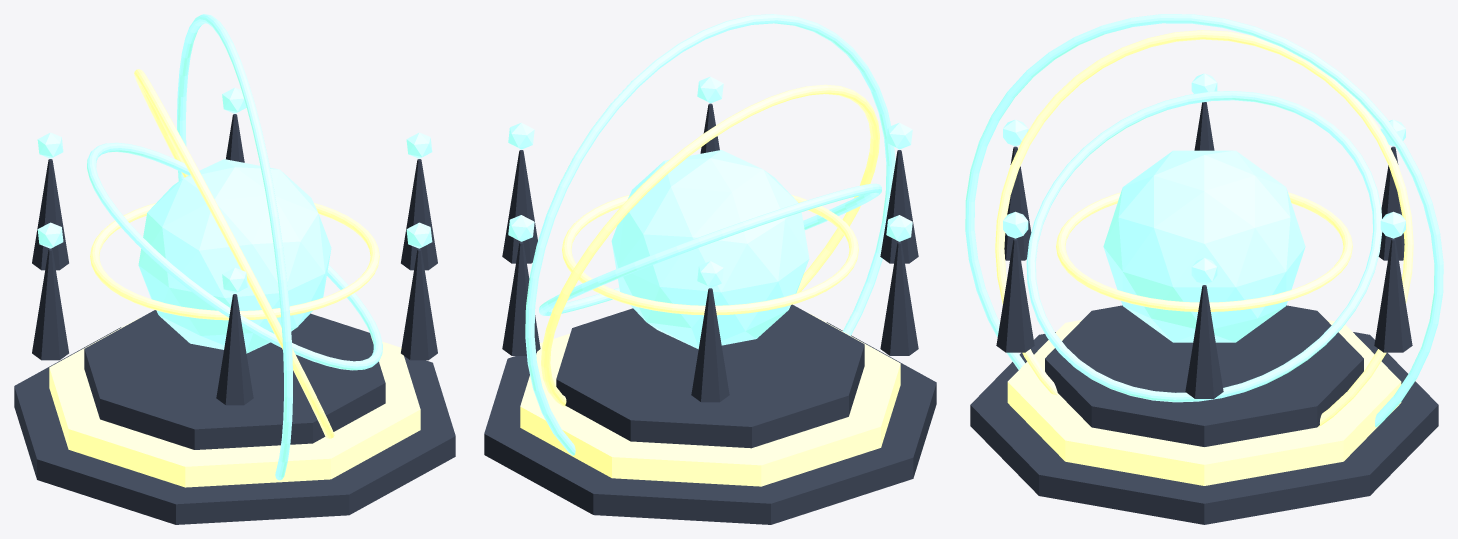
File: gpu-blender-v16.glb
The picture shows the model from 3 angles, left to right: view 1: azimuth 30°, elevation 25°; view 2: azimuth 150°, elevation 25°; view 3: azimuth 270°, elevation 25°; orthographic projection. The views are drawn at different scales.
Visible parts, largest first — view 1: Cylinder.002, Cylinder, SovereignCore_digital-asset-forge, Cylinder.001, Torus.003, Torus.001, Torus.002, Torus, Cone.004, Cone.003, Cone.005, Cone.002 (+7 smaller); view 2: Cylinder.002, SovereignCore_digital-asset-forge, Cylinder, Cylinder.001, Torus.003, Torus.002, Torus.001, Torus, Cone.002, Cone.003, Cone.001, Cone.004 (+7 smaller); view 3: SovereignCore_digital-asset-forge, Cylinder.002, Cylinder, Cylinder.001, Torus.003, Torus.001, Torus.002, Torus, Cone.001, Cone.005, Cone, Cone.004 (+3 smaller).
Boxes of the visible parts, bbox=[...] form: Cylinder.002: bbox=[84, 310, 385, 449]; Cylinder: bbox=[14, 327, 455, 524]; SovereignCore_digital-asset-forge: bbox=[138, 159, 331, 353]; Cylinder.001: bbox=[49, 318, 420, 487]; Torus.003: bbox=[177, 14, 292, 480]; Torus.001: bbox=[87, 142, 382, 370]; Torus.002: bbox=[134, 69, 334, 438]; Torus: bbox=[90, 203, 379, 320]; Cone.004: bbox=[216, 294, 253, 405]; Cone.003: bbox=[32, 249, 68, 360]; Cone.005: bbox=[401, 249, 437, 360]; Cone.002: bbox=[32, 159, 68, 270]; Cylinder.002: bbox=[556, 304, 864, 448]; SovereignCore_digital-asset-forge: bbox=[611, 150, 809, 349]; Cylinder: bbox=[484, 322, 936, 524]; Cylinder.001: bbox=[520, 313, 900, 486]; Torus.003: bbox=[525, 14, 895, 455]; Torus.002: bbox=[541, 84, 879, 406]; Torus.001: bbox=[539, 183, 881, 315]; Torus: bbox=[562, 195, 858, 315]; Cone.002: bbox=[691, 288, 729, 402]; Cone.003: bbox=[880, 242, 918, 355]; Cone.001: bbox=[502, 242, 540, 355]; Cone.004: bbox=[880, 150, 918, 263]; SovereignCore_digital-asset-forge: bbox=[1103, 150, 1305, 342]; Cylinder.002: bbox=[1045, 305, 1363, 446]; Cylinder: bbox=[970, 332, 1438, 524]; Cylinder.001: bbox=[1007, 320, 1401, 485]; Torus.003: bbox=[965, 14, 1443, 427]; Torus.001: bbox=[1026, 91, 1382, 402]; Torus.002: bbox=[995, 30, 1413, 426]; Torus: bbox=[1056, 192, 1352, 311]; Cone.001: bbox=[1374, 239, 1412, 352]; Cone.005: bbox=[996, 239, 1034, 352]; Cone: bbox=[1185, 285, 1223, 398]; Cone.004: bbox=[1004, 146, 1031, 260].
Bounding box in the file's own units: 4.41 × 4.7 × 4.49.
